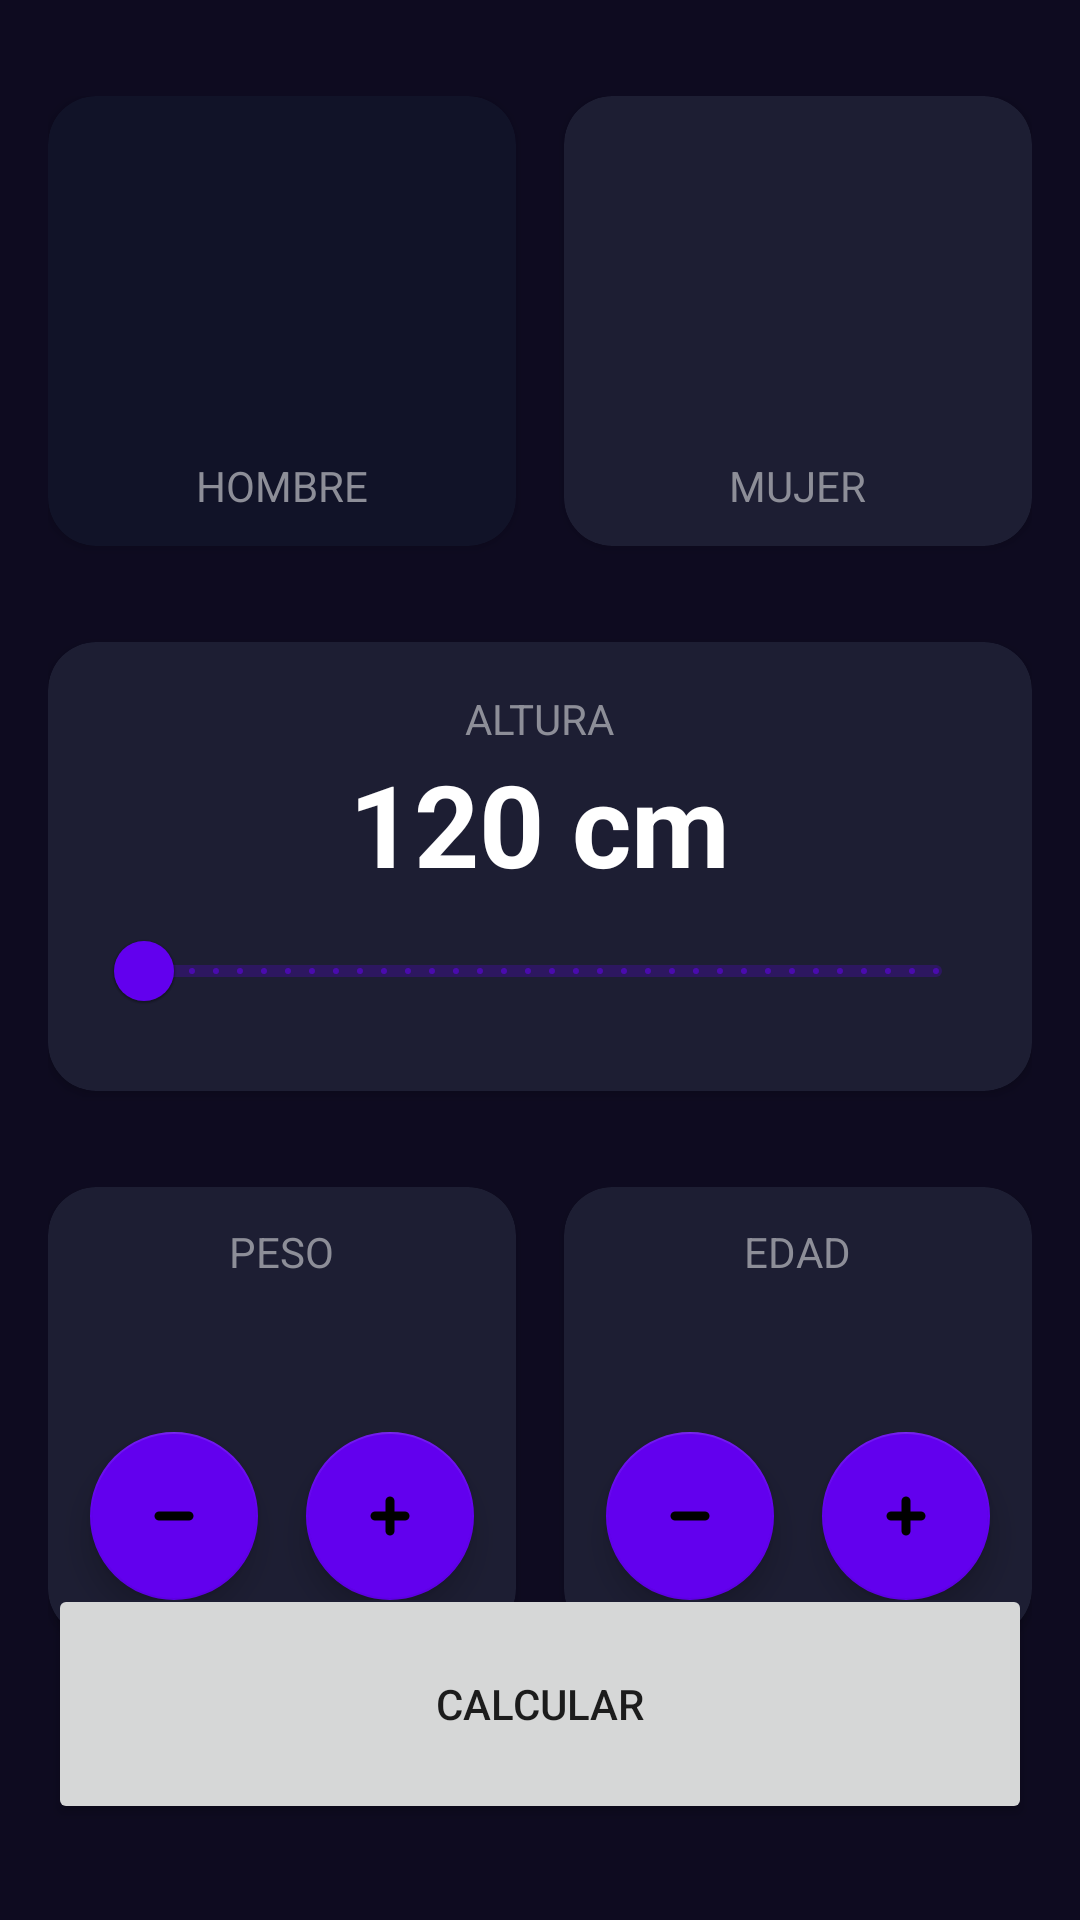

Screen size 1080x1920. Icon name, then its center in pixels as [x,y]:
minus: [690,1516]
minusweightfab: [174,1516]
plus: [906,1516]
plusweightfab: [390,1516]
